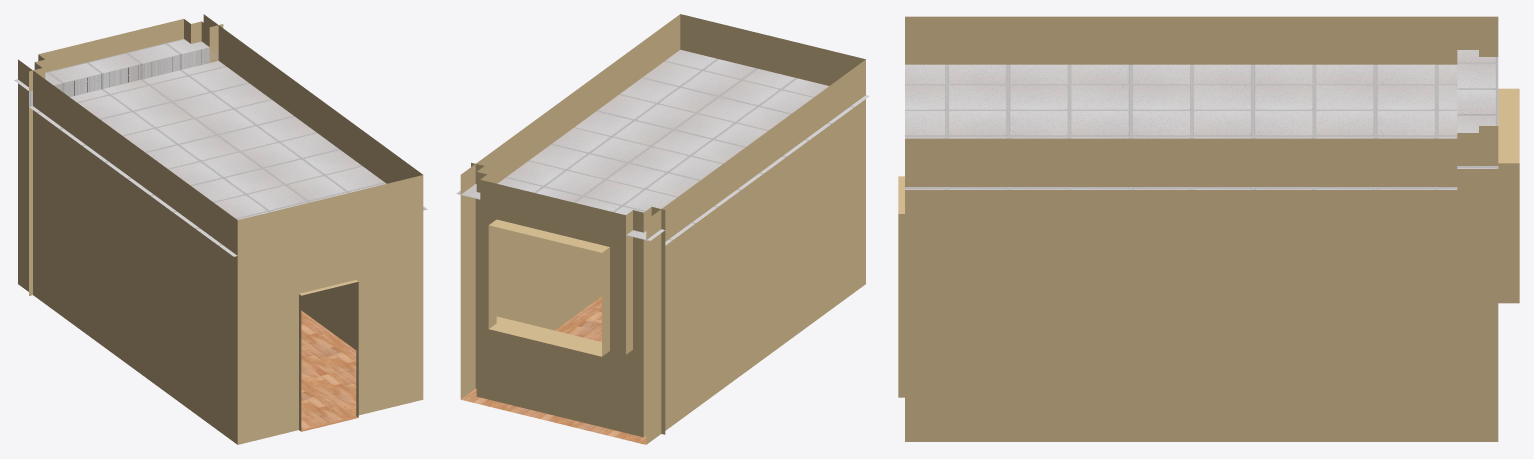
The model's file is room1.glb.
3 renders of one model, left to right at view 1: azimuth 30°, elevation 25°; view 2: azimuth 150°, elevation 25°; view 3: azimuth 270°, elevation 25°, orthographic. The views are drawn at different scales.
Parts seen in each view (by area): view 1: 4et.003; view 2: 4et.003; view 3: 4et.003.
Boxes of the visible parts, x1=… form: 4et.003: x1=14, y1=14, x2=427, y2=444; 4et.003: x1=456, y1=14, x2=869, y2=444; 4et.003: x1=898, y1=16, x2=1519, y2=441.
Size of the model in its own units: 2.98 by 3.3 by 6.13.
Materials: 3 (2 with a texture image).
